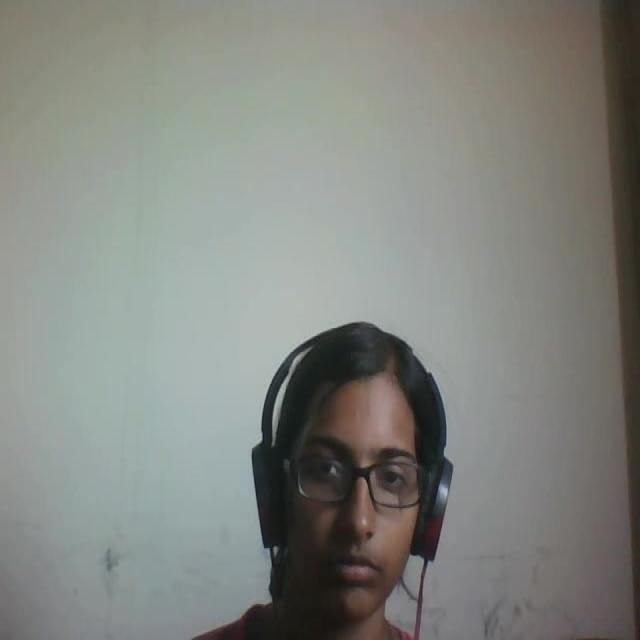Engaged: (236, 288, 457, 640)
